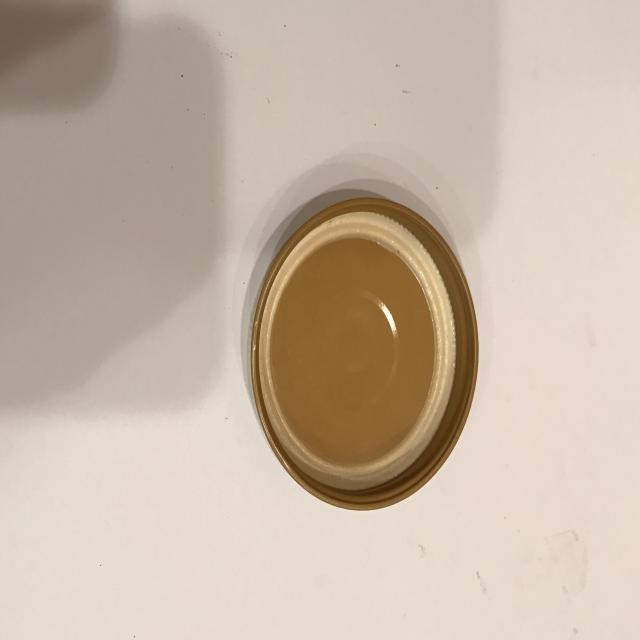metal: (248, 194, 480, 510)
